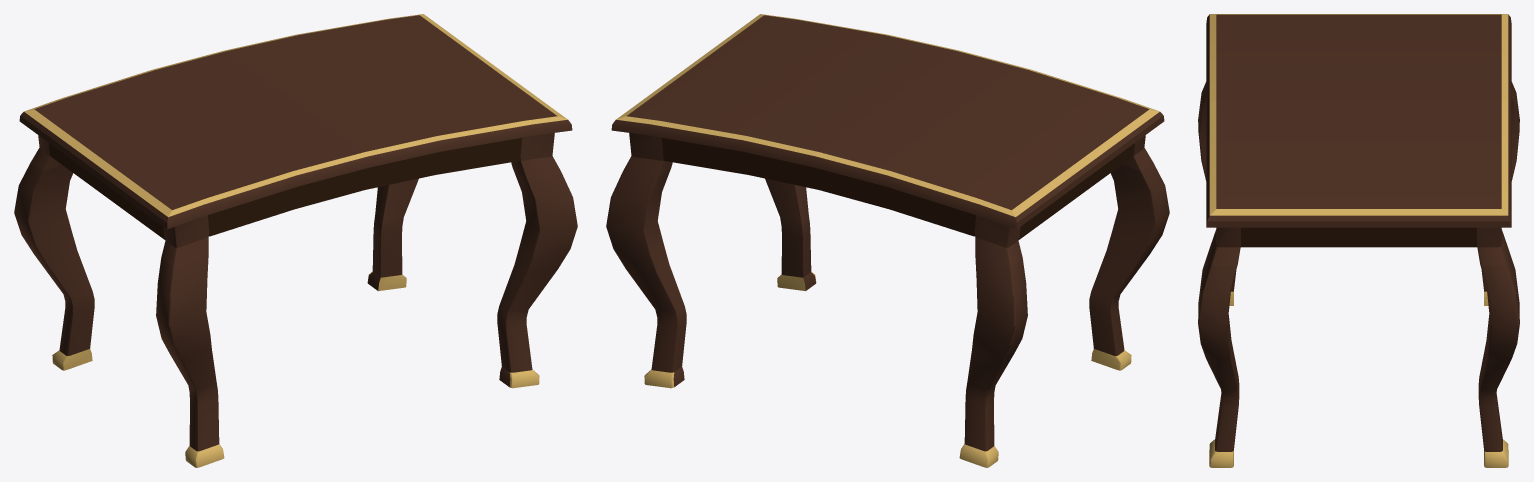
Rendered from BedroomDesk.fbx.
3 views of the same model, side by side, from view 1: azimuth 30°, elevation 25°; view 2: azimuth 150°, elevation 25°; view 3: azimuth 270°, elevation 25° (orthographic). The views are drawn at different scales.
Visible parts, largest first — view 1: DeskTableUVd:pCube15; view 2: DeskTableUVd:pCube15; view 3: DeskTableUVd:pCube15.
Boxes of the visible parts, bbox=[...] form: DeskTableUVd:pCube15: bbox=[14, 14, 577, 467]; DeskTableUVd:pCube15: bbox=[606, 14, 1169, 467]; DeskTableUVd:pCube15: bbox=[1198, 14, 1519, 467].
Size of the model in its own units: 174 by 110 by 114.
